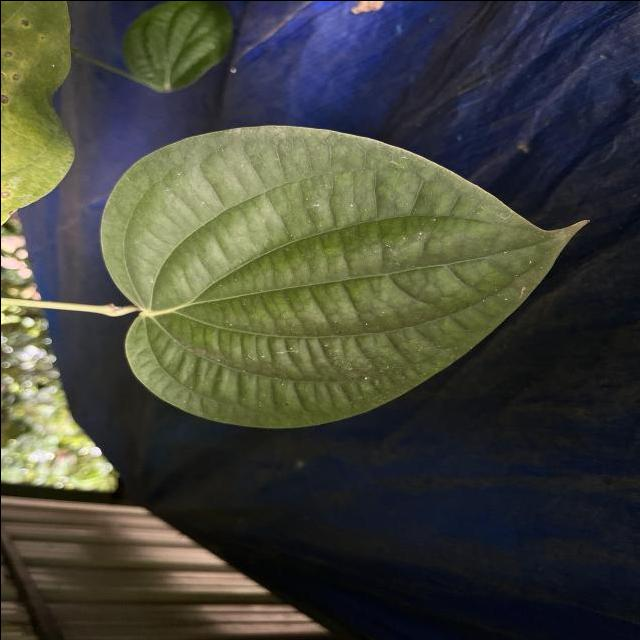Piper nigrum: (93, 120, 594, 433)
